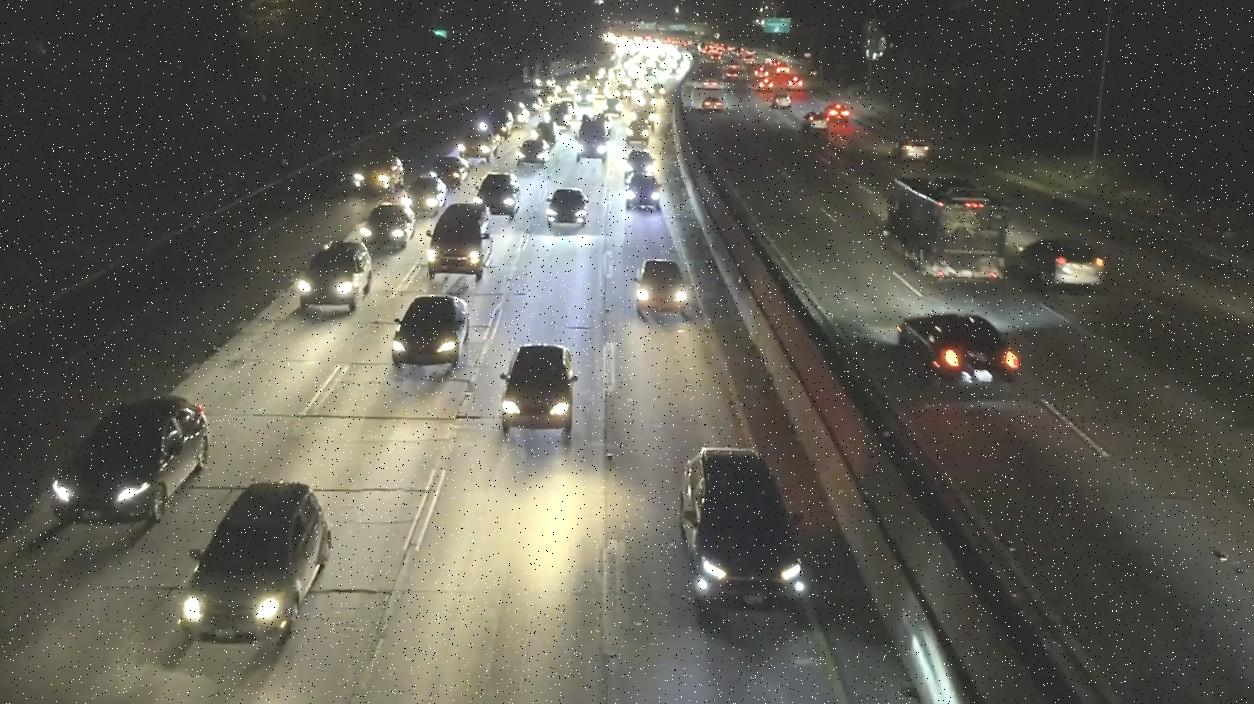car: (181, 477, 333, 641), (679, 445, 807, 621), (45, 401, 211, 513), (894, 313, 1024, 388), (497, 345, 577, 430), (395, 295, 469, 375), (1009, 238, 1110, 290), (298, 241, 376, 308), (428, 208, 491, 276), (633, 259, 688, 315), (363, 207, 418, 241), (480, 171, 520, 216), (547, 187, 588, 228), (626, 174, 664, 208), (893, 138, 930, 162), (516, 138, 551, 162), (801, 110, 828, 129)
truck: (885, 176, 1005, 283)
